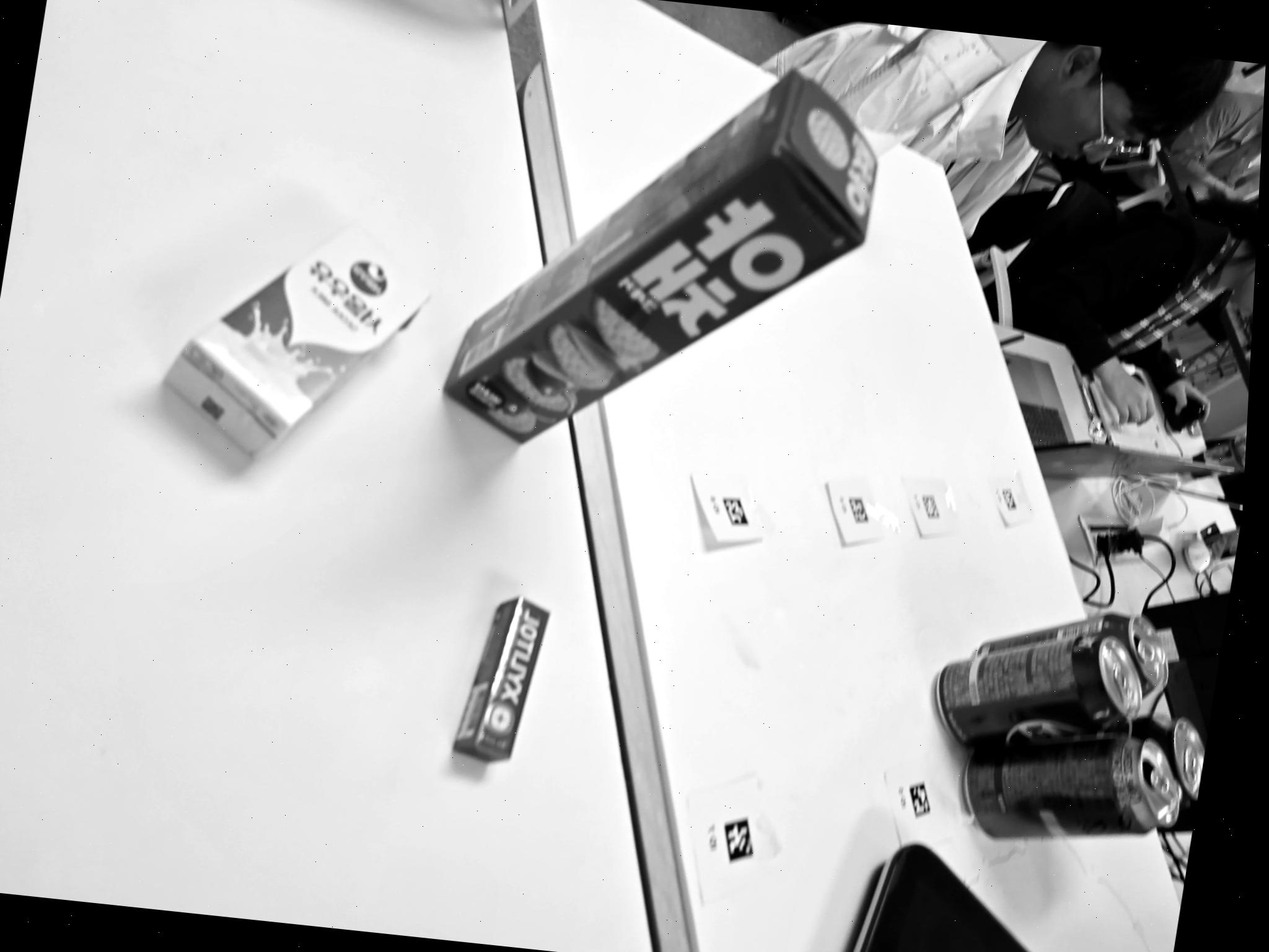cracker_vege: (444, 73, 877, 442)
gum_green: (453, 596, 549, 760)
milk_green: (164, 228, 428, 454)
